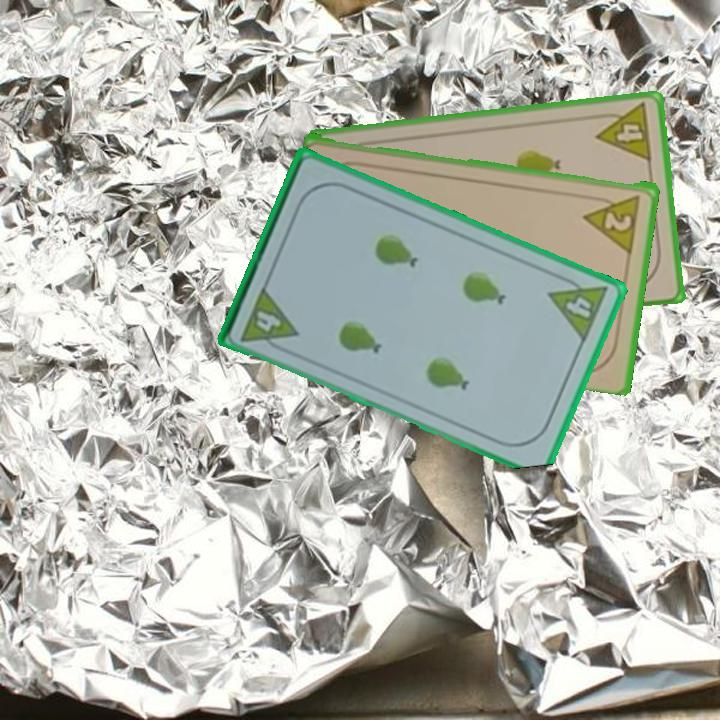2p: (581, 191, 644, 254)
4p: (545, 269, 611, 345), (237, 283, 301, 357), (591, 100, 655, 165)
